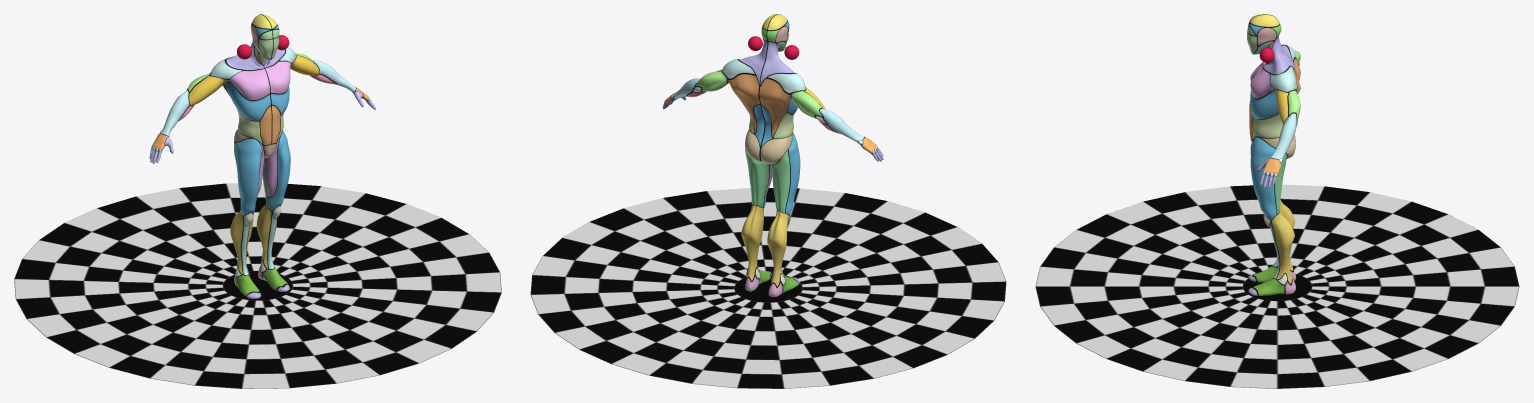
The model's file is human_body.glb.
3 views of the same model, side by side, from view 1: azimuth 30°, elevation 25°; view 2: azimuth 150°, elevation 25°; view 3: azimuth 270°, elevation 25° (orthographic). The views are drawn at different scales.
Visible parts, largest first — view 1: Floor, Object_9; view 2: Floor, Object_9; view 3: Floor, Object_9.
Boxes of the visible parts, x1=… form: Floor: x1=14, y1=183, x2=501, y2=388; Object_9: x1=149, y1=14, x2=375, y2=298; Floor: x1=530, y1=188, x2=1006, y2=388; Object_9: x1=662, y1=14, x2=883, y2=296; Floor: x1=1035, y1=184, x2=1519, y2=388; Object_9: x1=1247, y1=14, x2=1300, y2=295.
Bounding box in the file's own units: 3.19 × 1.98 × 3.19.
4 materials, 2 textured.
